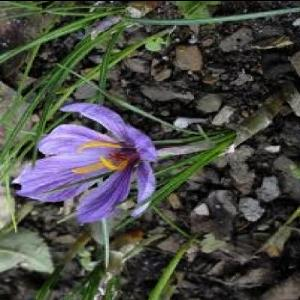Saffron: (14, 100, 158, 218)
